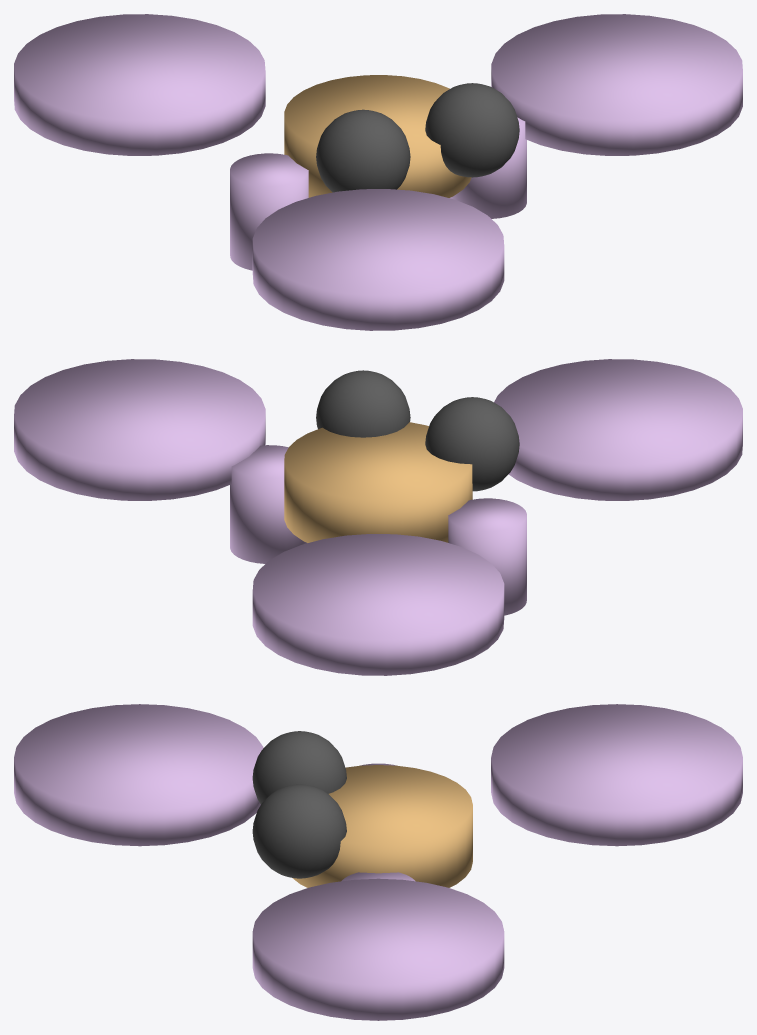
Rendered from clay_fidget_spinner.glb.
The picture shows the model from 3 angles, top to bottom: view 1: azimuth 30°, elevation 25°; view 2: azimuth 150°, elevation 25°; view 3: azimuth 270°, elevation 25°; orthographic projection.
Parts seen in each view (by area): view 1: clay_fidget_spinner.002, clay_fidget_spinner.001, clay_fidget_spinner, clay_fidget_spinner.003, clay_fidget_spinner.005, clay_fidget_spinner.004, clay_fidget_spinner.006, clay_fidget_spinner.007; view 2: clay_fidget_spinner.001, clay_fidget_spinner, clay_fidget_spinner.002, clay_fidget_spinner.003, clay_fidget_spinner.007, clay_fidget_spinner.004, clay_fidget_spinner.006, clay_fidget_spinner.005; view 3: clay_fidget_spinner, clay_fidget_spinner.001, clay_fidget_spinner.002, clay_fidget_spinner.003, clay_fidget_spinner.005, clay_fidget_spinner.004.
Boxes of the visible parts, bbox=[...] form: clay_fidget_spinner.002: bbox=[252, 189, 504, 330]; clay_fidget_spinner.001: bbox=[14, 14, 265, 155]; clay_fidget_spinner: bbox=[491, 14, 742, 155]; clay_fidget_spinner.003: bbox=[284, 75, 471, 197]; clay_fidget_spinner.005: bbox=[425, 83, 519, 177]; clay_fidget_spinner.004: bbox=[316, 109, 410, 192]; clay_fidget_spinner.006: bbox=[230, 153, 308, 270]; clay_fidget_spinner.007: bbox=[449, 117, 526, 218]; clay_fidget_spinner.001: bbox=[252, 534, 504, 675]; clay_fidget_spinner: bbox=[14, 359, 265, 500]; clay_fidget_spinner.002: bbox=[494, 359, 742, 500]; clay_fidget_spinner.003: bbox=[284, 422, 472, 542]; clay_fidget_spinner.007: bbox=[230, 445, 307, 563]; clay_fidget_spinner.004: bbox=[425, 397, 519, 491]; clay_fidget_spinner.006: bbox=[448, 498, 526, 615]; clay_fidget_spinner.005: bbox=[316, 370, 410, 437]; clay_fidget_spinner: bbox=[252, 878, 504, 1020]; clay_fidget_spinner.001: bbox=[491, 704, 742, 846]; clay_fidget_spinner.002: bbox=[14, 704, 263, 846]; clay_fidget_spinner.003: bbox=[292, 765, 472, 887]; clay_fidget_spinner.005: bbox=[252, 784, 346, 878]; clay_fidget_spinner.004: bbox=[252, 731, 346, 804].
Bounding box in the file's own units: 0.845 × 0.22 × 0.9262.
